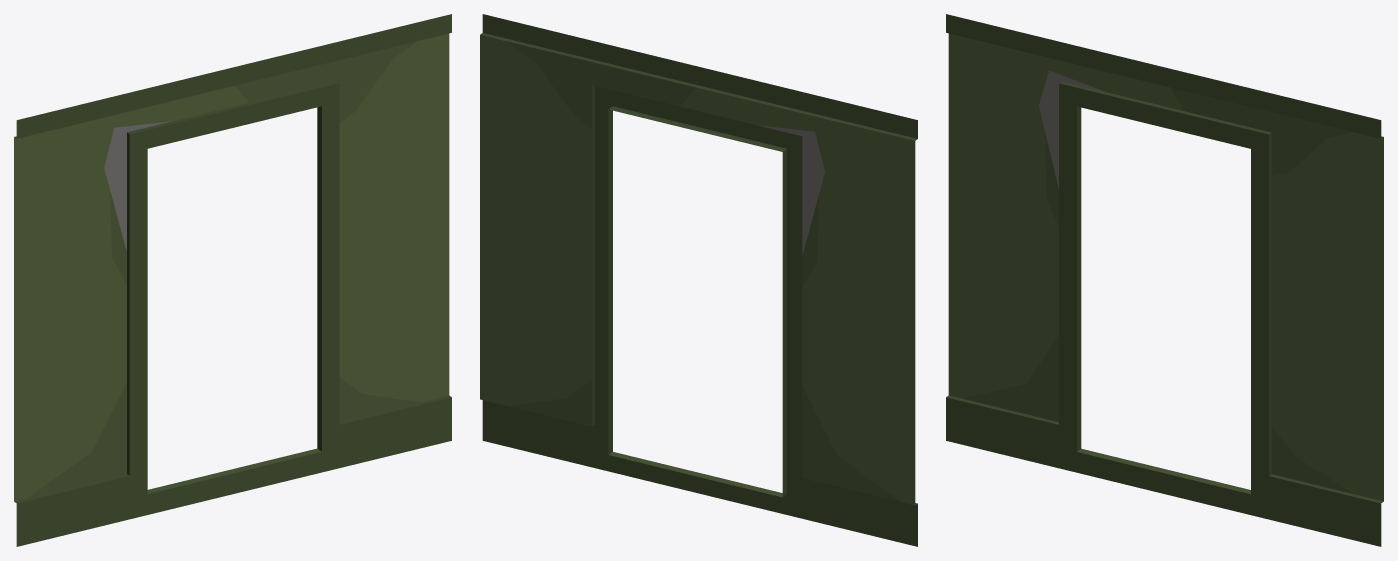
File: AI_Env_Wall_Green_Doorway.fbx
3 views of the same model, side by side, from view 1: azimuth 30°, elevation 25°; view 2: azimuth 150°, elevation 25°; view 3: azimuth 330°, elevation 25° (orthographic).
Visible parts, largest first — view 1: AI_Env_Wall_Green_Doorway; view 2: AI_Env_Wall_Green_Doorway; view 3: AI_Env_Wall_Green_Doorway.
Boxes of the visible parts, x1,y1,x2,y2 form: AI_Env_Wall_Green_Doorway: [14, 14, 451, 546]; AI_Env_Wall_Green_Doorway: [480, 14, 917, 546]; AI_Env_Wall_Green_Doorway: [946, 14, 1383, 546].
Size of the model in its own units: 5 by 4.69 by 0.0885.
